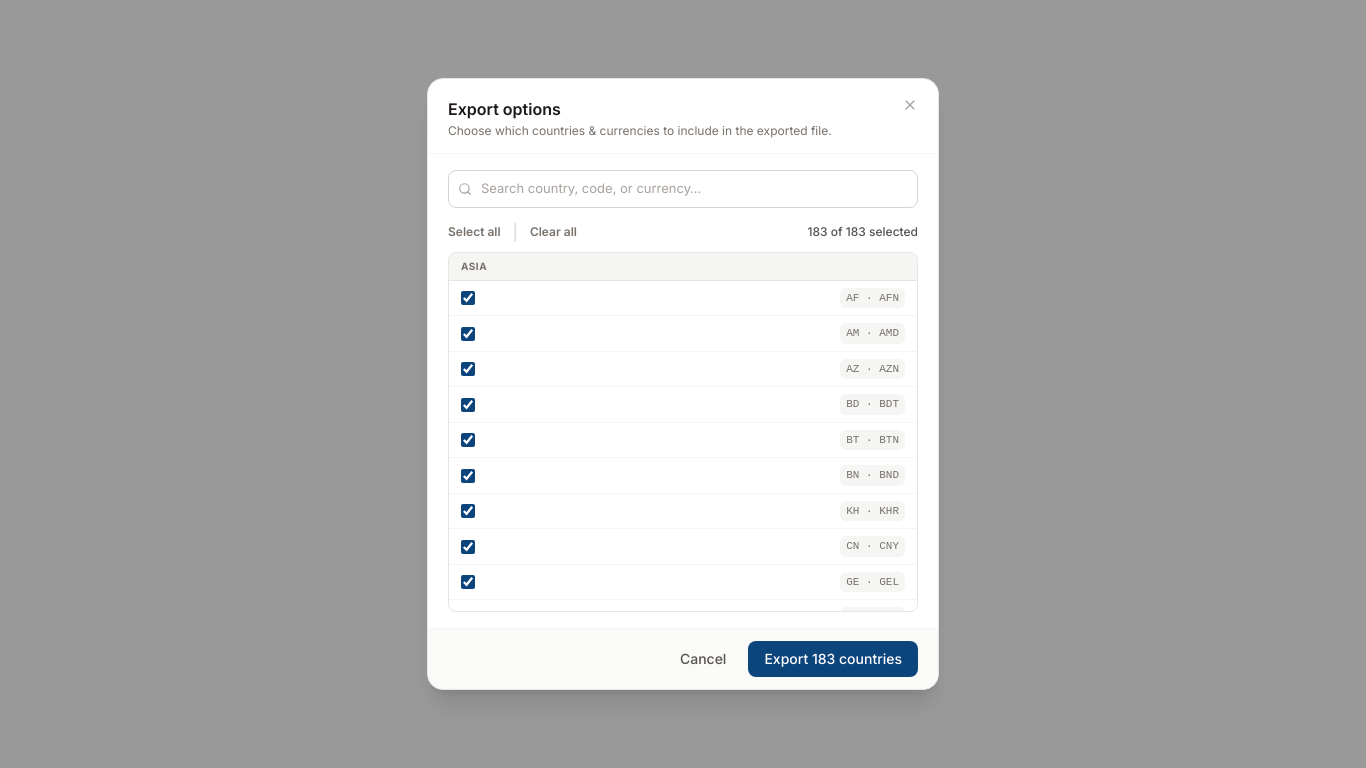
ExportOptionsDialog — selection › zero selected disables Export with a clear hint
Step 1. Click the button "Clear all" → (553, 232), box left=530, top=224, right=577, bottom=240
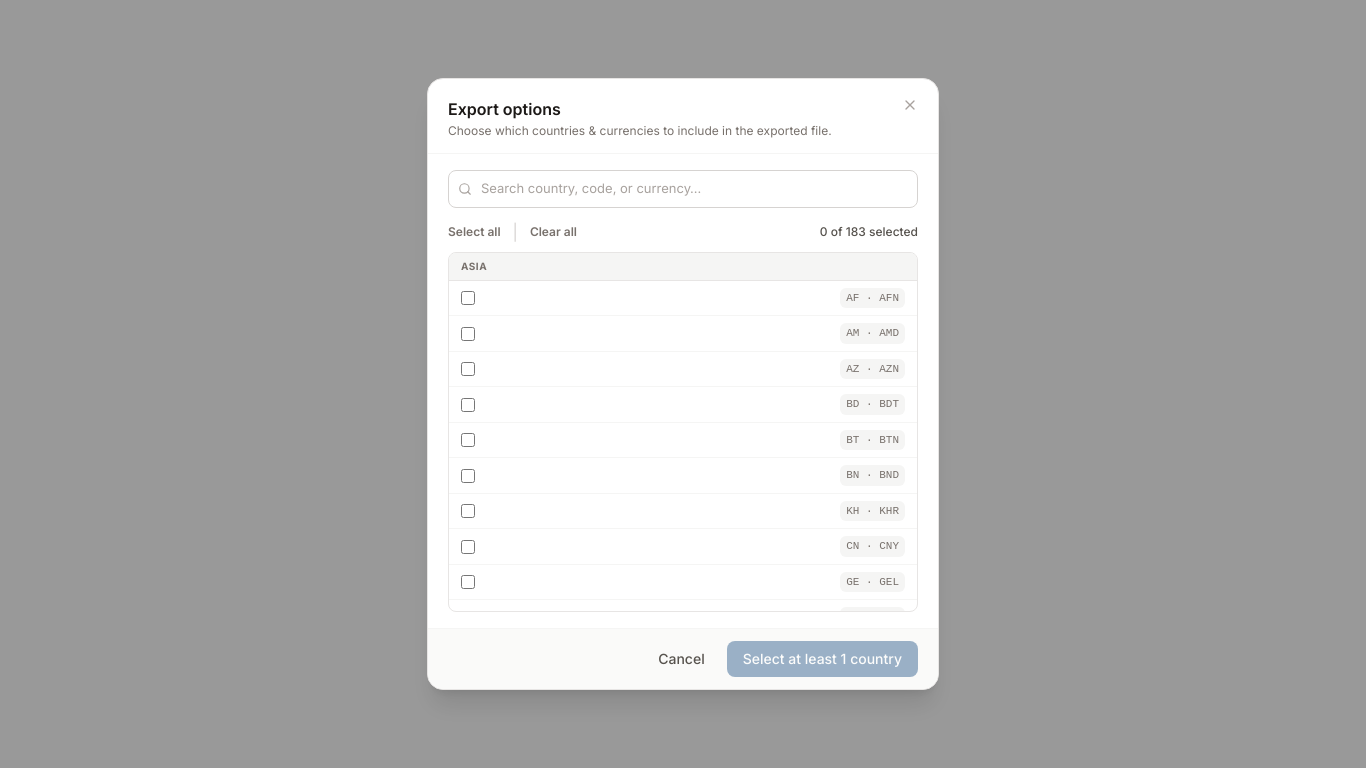
Now the button "Select at least 1 country" is disabled, box left=727, top=641, right=918, bottom=677
